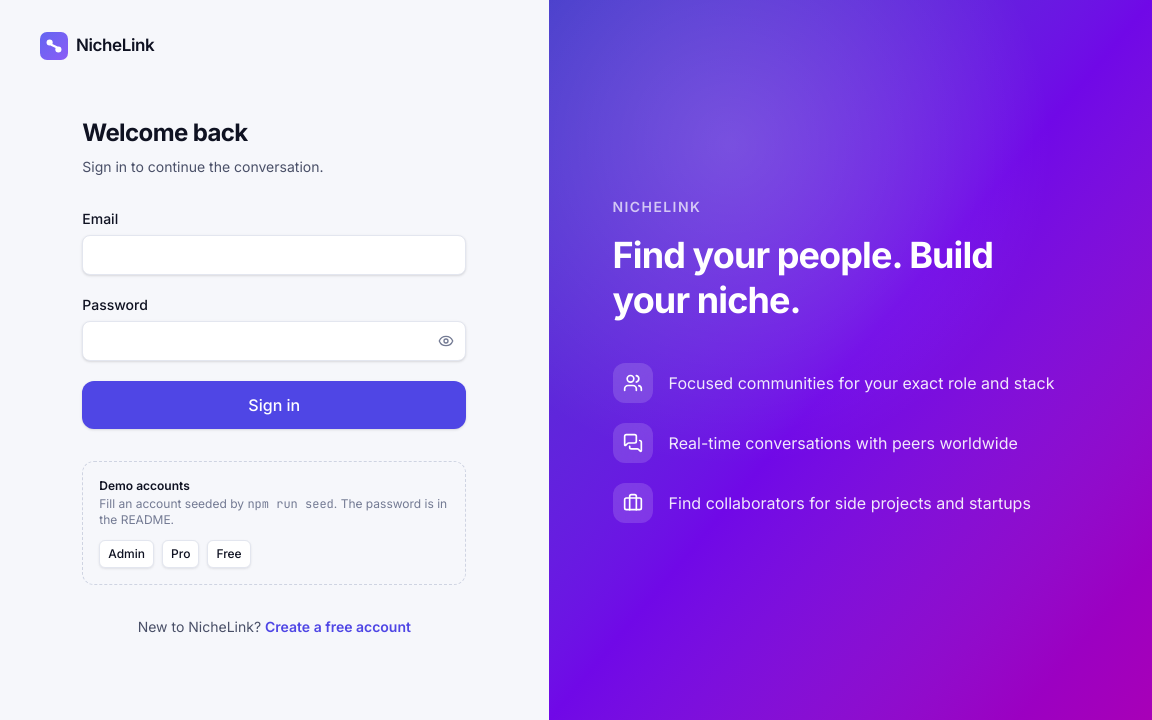
Test: LoginPage › shows the server error and stays signed out on bad credentials
Type "daniel@example.com" into the field labelled "Email" at (274, 255), box top-left (82, 235), bottom-right (466, 275)
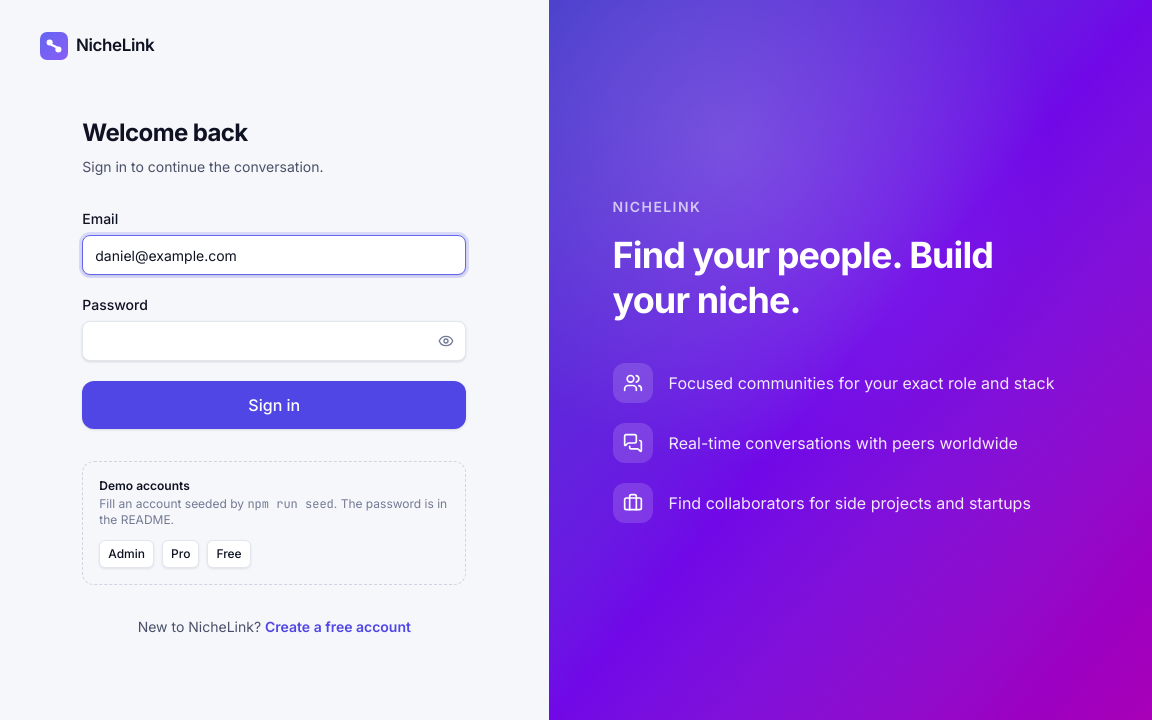
Type "WrongPassw0rd" into the password field labelled "Password" at (274, 341), box top-left (82, 321), bottom-right (466, 361)
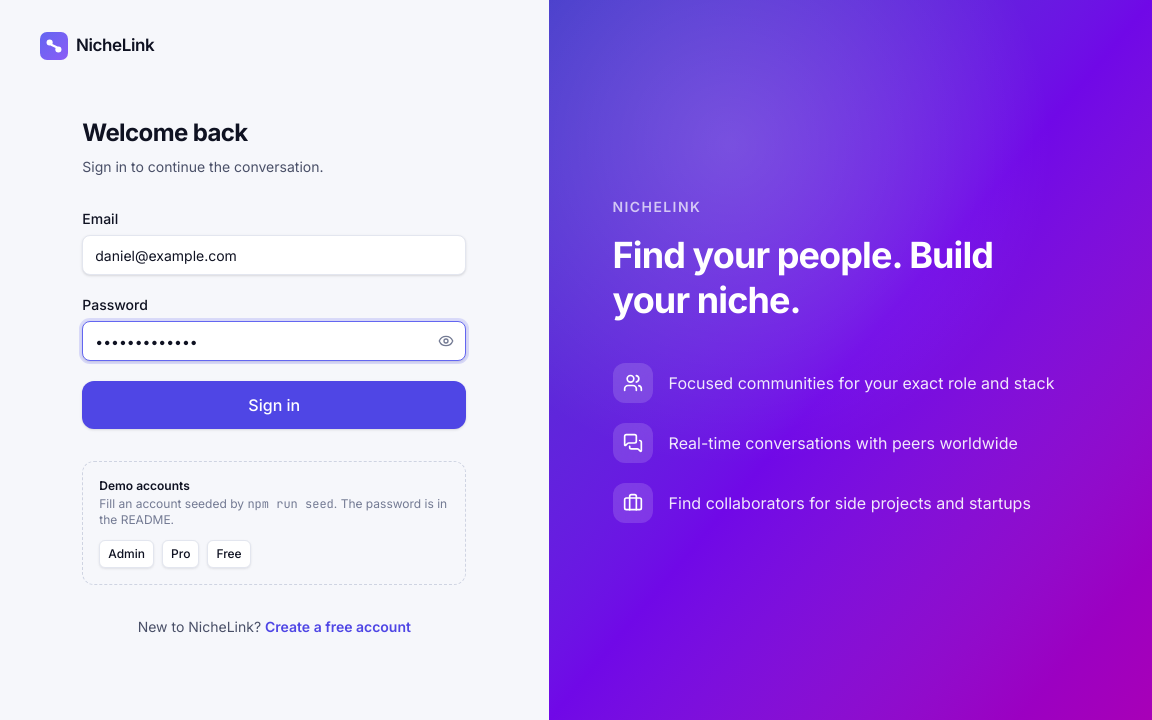
Click the button "Sign in" at (274, 405), box top-left (82, 381), bottom-right (466, 429)
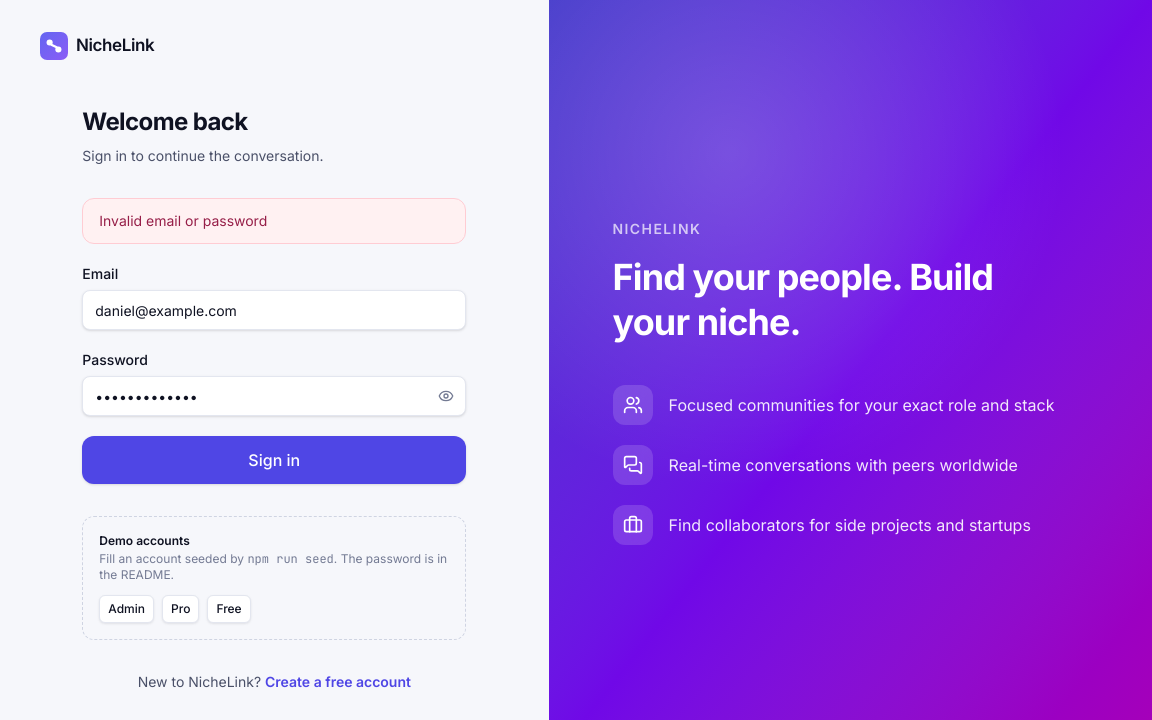
Expected: the text "Invalid email or password" is shown, top-left (99, 212), bottom-right (267, 229)
